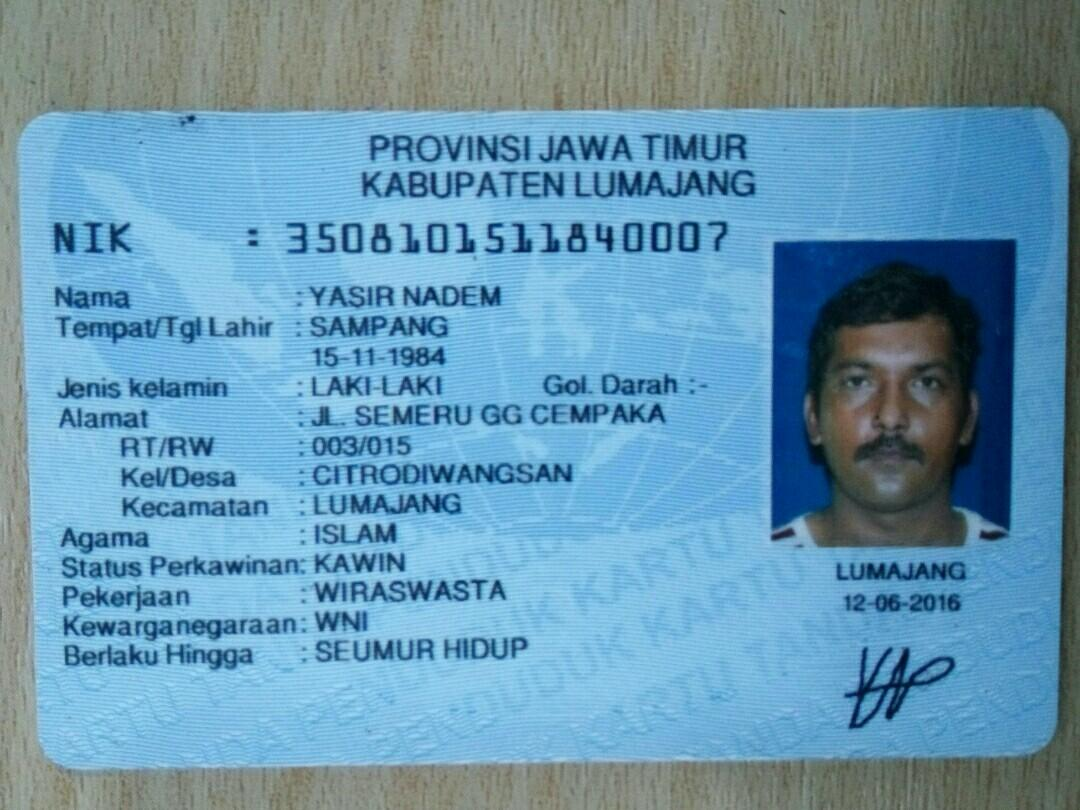ID-card: (24, 109, 1056, 755)
